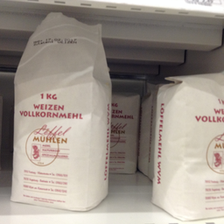flour: (13, 13, 112, 213), (154, 72, 224, 222)
